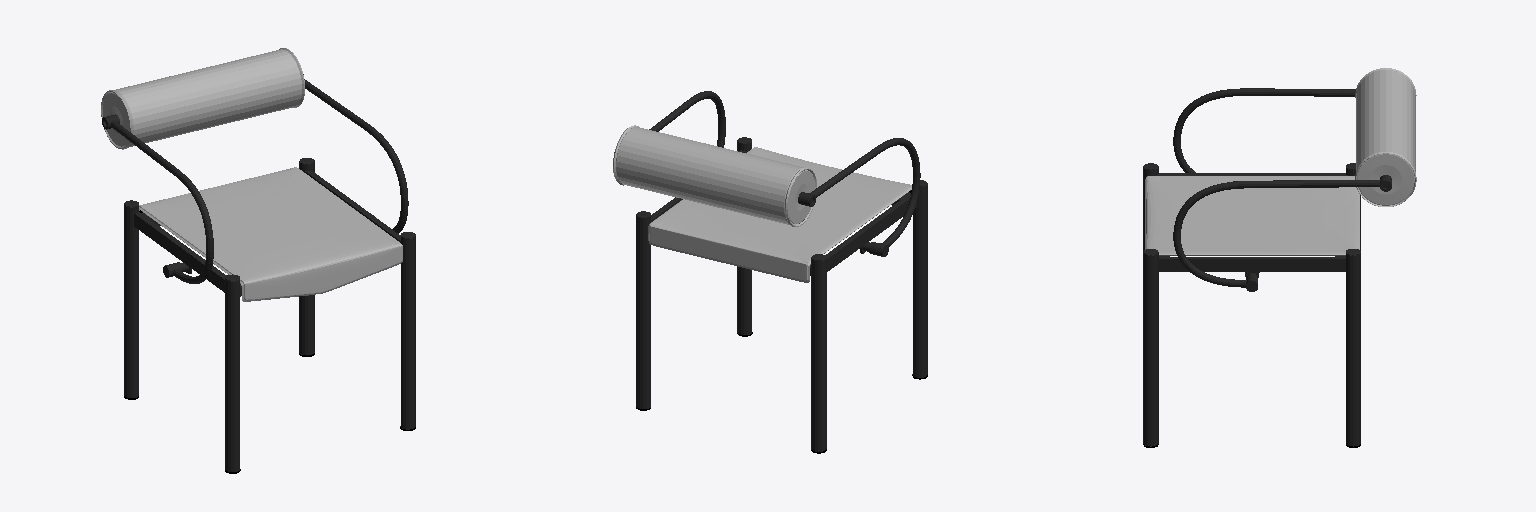
Rendered from chair.obj.
3 renders of one model, left to right at view 1: azimuth 30°, elevation 25°; view 2: azimuth 150°, elevation 25°; view 3: azimuth 270°, elevation 25°, orthographic.
Visible parts, largest first — view 1: Plane.001_Plane.002, Cylinder.001, Circle, BezierCurve, Cube; view 2: Plane.001_Plane.002, Cylinder.001, Circle, BezierCurve, Cube; view 3: Plane.001_Plane.002, Cylinder.001, Circle, BezierCurve, Cube.
Part boxes in pixels (x1,y1,x2,y2): Plane.001_Plane.002: (139, 167, 402, 301); Cylinder.001: (101, 48, 304, 149); Circle: (124, 158, 415, 473); BezierCurve: (111, 79, 408, 283); Cube: (134, 171, 400, 292); Plane.001_Plane.002: (648, 147, 911, 282); Cylinder.001: (613, 125, 816, 226); Circle: (636, 137, 927, 453); BezierCurve: (649, 91, 920, 246); Cube: (651, 150, 916, 271); Plane.001_Plane.002: (1145, 176, 1359, 255); Cylinder.001: (1355, 68, 1416, 206); Circle: (1143, 163, 1360, 447); BezierCurve: (1173, 88, 1380, 287); Cube: (1157, 173, 1347, 271).
Size of the model in its own units: 0.7343 by 0.9892 by 0.8377.